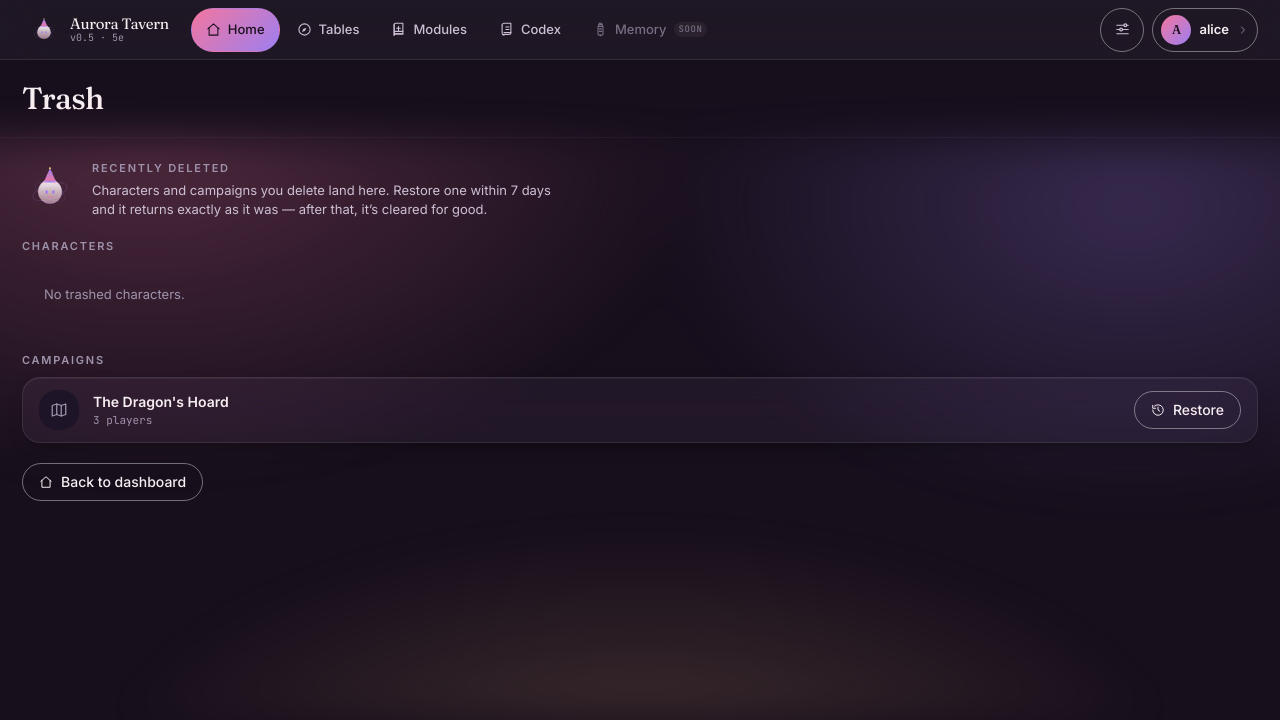
Test: Trash — campaigns (TAV-CAMPAIGN-TRASH-NO-RESTORE-UI) › restore → Cancel leaves the campaign row untouched
This screenshot has width=1280, height=720.
What coordinates should you click on to do the following:
click the button with aria-label "restore the dragon's hoard"
I would click on:
 (1187, 410)
Its box is [1134,391,1241,429].
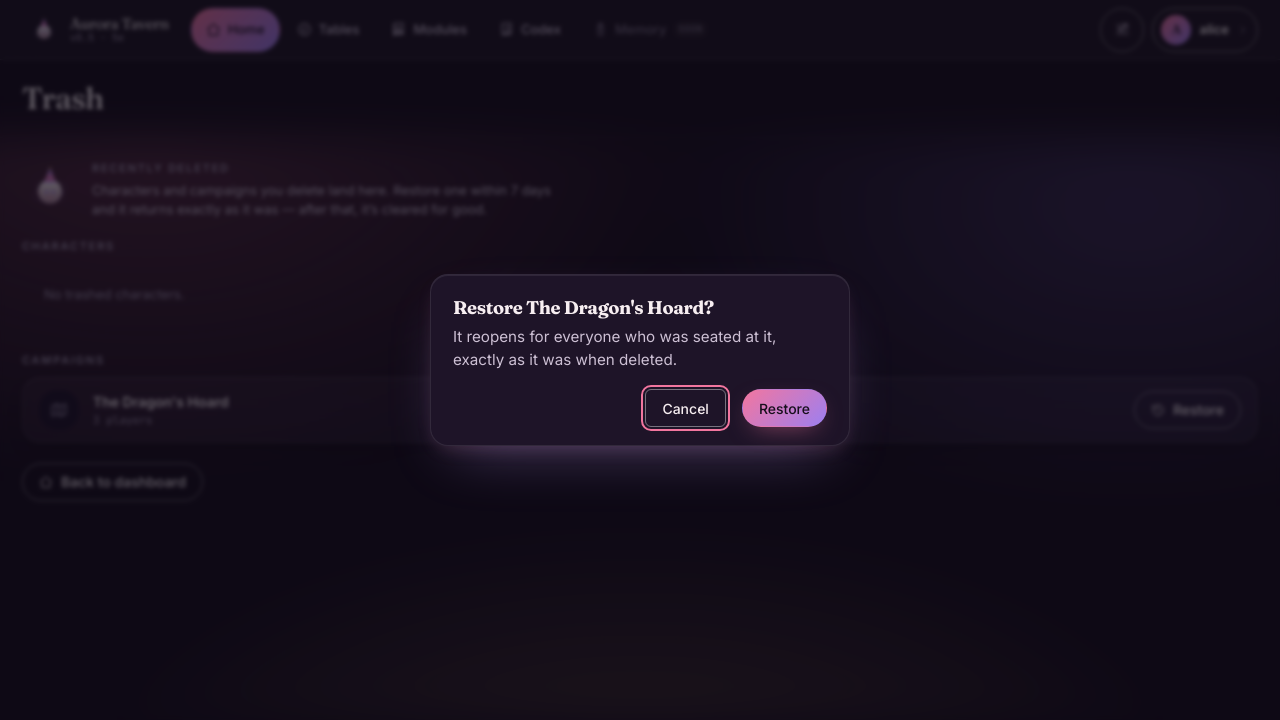
What coordinates should you click on to do the following:
click the button "Cancel"
I would click on:
 (686, 408)
Its box is [645,389,726,427].
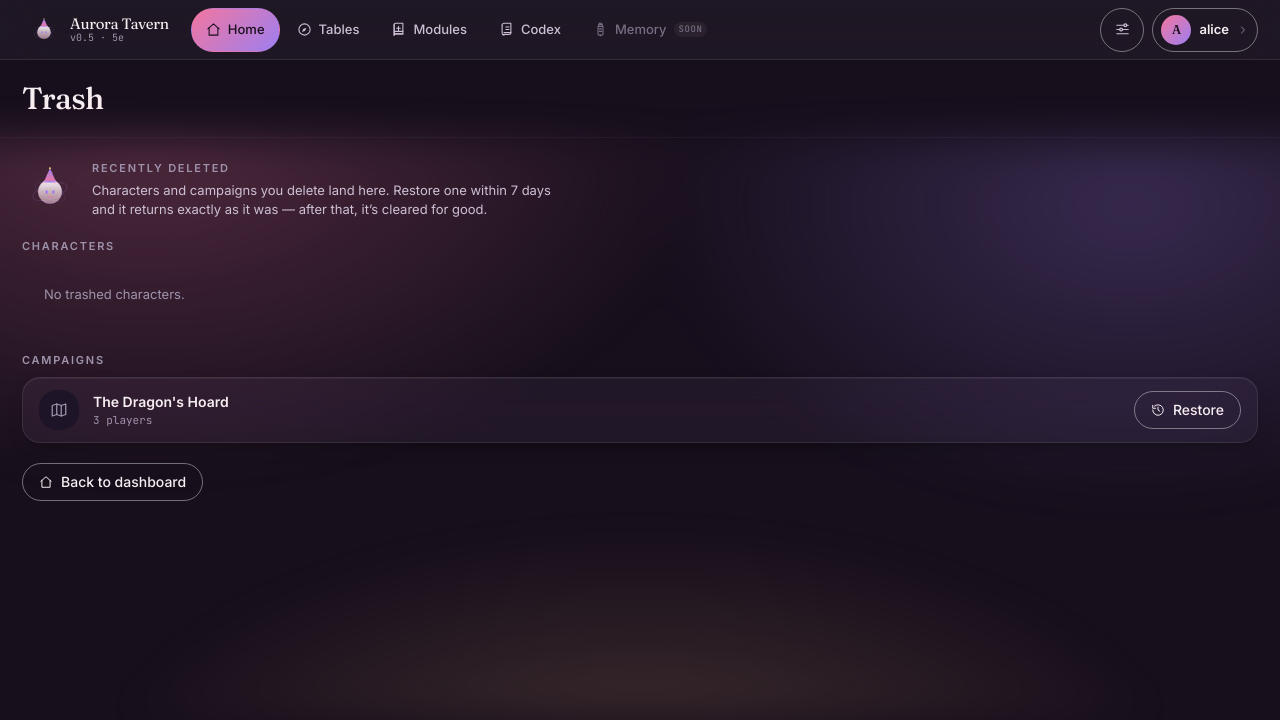
Expected: the text "The Dragon's Hoard" is shown, [93,393,229,410]
Expected: the dialog is gone
